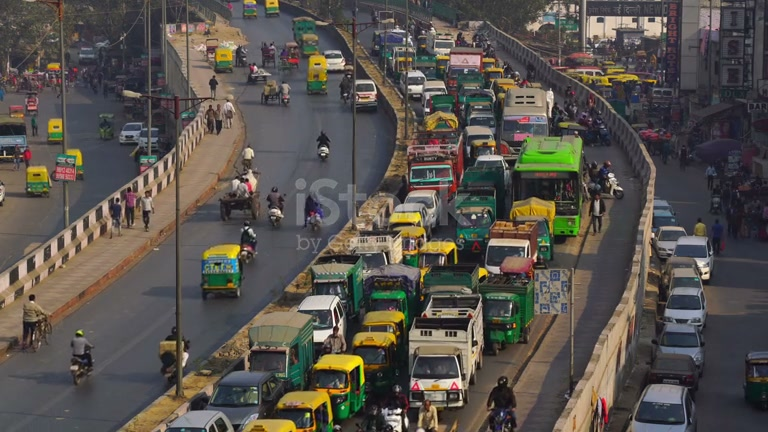bus: (407, 287, 485, 385), (513, 134, 583, 239), (244, 308, 316, 390), (306, 354, 367, 421), (498, 86, 549, 155), (509, 197, 555, 262), (445, 47, 484, 95)
car: (206, 370, 288, 430), (408, 348, 470, 411), (629, 382, 698, 432), (259, 389, 337, 432), (295, 294, 347, 358), (652, 323, 706, 378), (200, 243, 245, 299), (656, 255, 706, 301), (662, 281, 708, 330), (671, 236, 716, 283), (648, 352, 703, 390), (160, 409, 238, 432), (743, 350, 768, 410), (650, 225, 688, 262), (352, 78, 378, 112), (25, 166, 52, 197), (119, 122, 145, 145)
motorcycle: (69, 355, 94, 386)
pedestrian: (486, 376, 518, 431), (21, 293, 47, 350), (70, 328, 94, 366), (416, 398, 439, 432), (140, 189, 154, 231), (124, 189, 137, 229), (110, 196, 123, 236), (693, 218, 707, 238)
truck: (292, 17, 319, 54)
